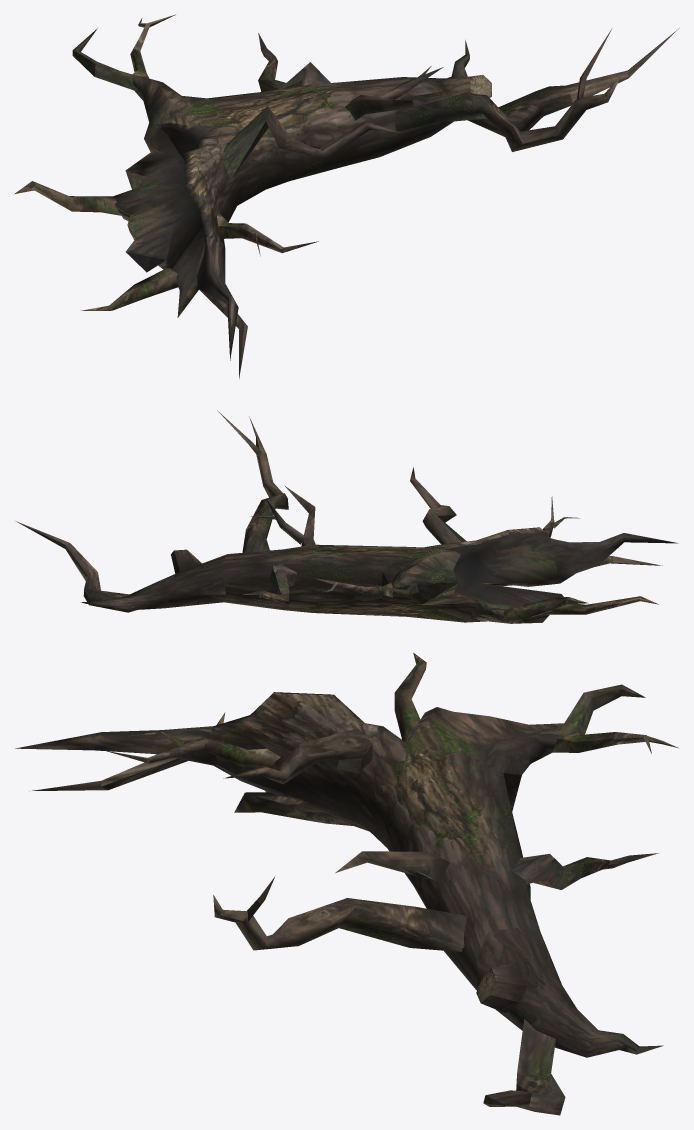
Rendered from tlfb03_kushu_01.FBX.
3 views of the same model, one above another, from view 1: azimuth 30°, elevation 25°; view 2: azimuth 150°, elevation 25°; view 3: azimuth 270°, elevation 25° (orthographic). The views are drawn at different scales.
Parts seen in each view (by area): view 1: tlfb03_kushu_01; view 2: tlfb03_kushu_01; view 3: tlfb03_kushu_01.
Boxes of the visible parts, box(x1,y1,x2,y2) form: tlfb03_kushu_01: box(15, 14, 679, 378); tlfb03_kushu_01: box(15, 410, 678, 623); tlfb03_kushu_01: box(15, 653, 678, 1115).
Size of the model in its own units: 845 by 209 by 567.
